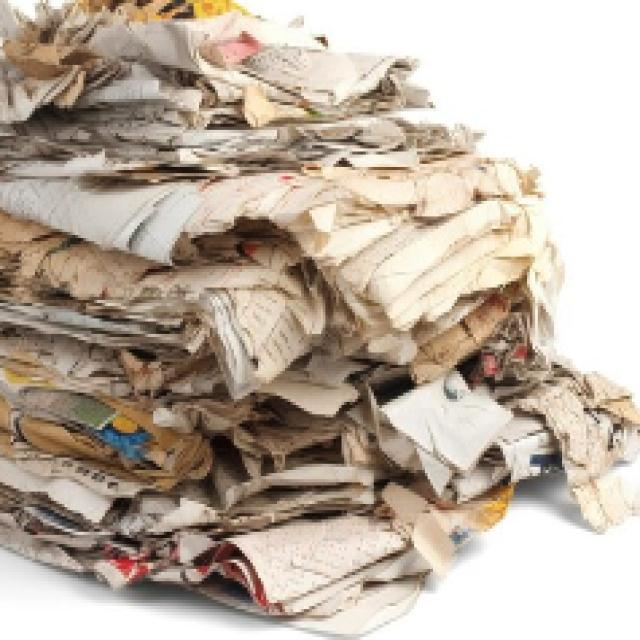Koran: (0, 0, 637, 637)
